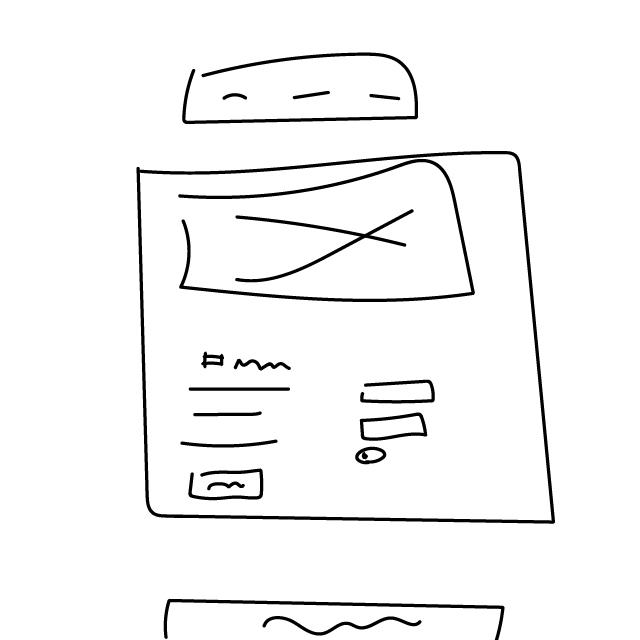button: (185, 466, 270, 505)
checkbox: (354, 445, 391, 470)
container: (121, 144, 570, 533)
footer: (153, 592, 522, 640)
frame: (177, 176, 479, 307)
heading: (198, 346, 294, 381)
input: (357, 378, 438, 411), (355, 412, 433, 444)
nav: (181, 49, 425, 129)
text: (182, 383, 305, 460)
